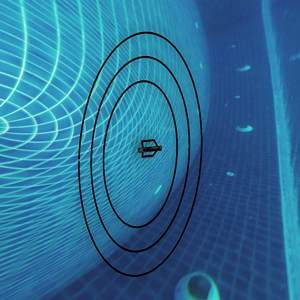circle: (71, 27, 230, 269)
